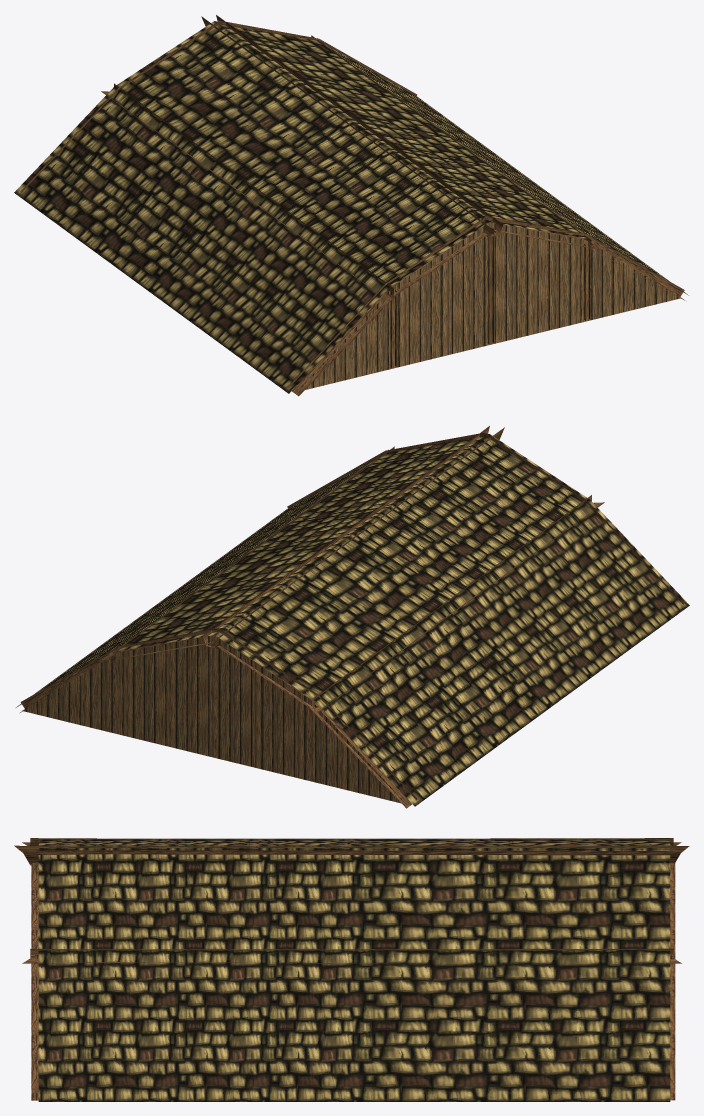
The model's file is LAKETOWN_WAREHOUSE2_PS_WH2_BARNROOF9948__GX.fbx.
The picture shows the model from 3 angles, top to bottom: view 1: azimuth 30°, elevation 25°; view 2: azimuth 150°, elevation 25°; view 3: azimuth 270°, elevation 25°; orthographic projection. The views are drawn at different scales.
Parts seen in each view (by area): view 1: LAKETOWN_WAREHOUSE2_PS_WH2_BARNROOF9948__GX; view 2: LAKETOWN_WAREHOUSE2_PS_WH2_BARNROOF9948__GX; view 3: LAKETOWN_WAREHOUSE2_PS_WH2_BARNROOF9948__GX.
Boxes of the visible parts, x1,y1,x2,y2 form: LAKETOWN_WAREHOUSE2_PS_WH2_BARNROOF9948__GX: (14,15,688,396); LAKETOWN_WAREHOUSE2_PS_WH2_BARNROOF9948__GX: (16,426,689,808); LAKETOWN_WAREHOUSE2_PS_WH2_BARNROOF9948__GX: (14,838,689,1101).
Size of the model in its own units: 200625 by 61314 by 254975.
4 materials, 4 textured.
